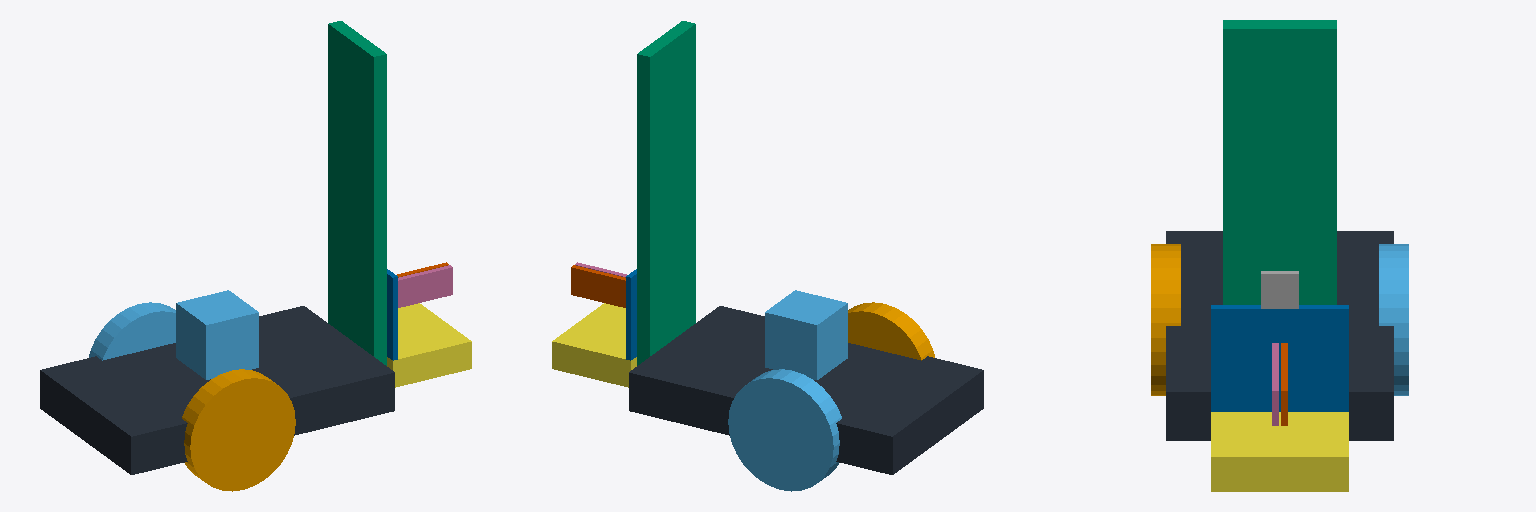
The robot description file, URDF, robot "lib_bot":
<?xml version="1.0" ?>

<robot name="lib_bot" xmlns:xacro="https://www.ros.org/wiki/xacro" >

    <gazebo>
        <plugin name="gazebo_ros_control" filename="libgazebo_ros_control.so">
            <robotNamespace>/lib_bot</robotNamespace>
        </plugin>
    </gazebo>
    
  <material name="black">
    <color rgba="0.0 0.0 0.0 1.0"/>
  </material>
  <material name="blue">
    <color rgba="0.203125 0.23828125 0.28515625 1.0"/>
  </material>
  <material name="green">
    <color rgba="0.0 0.8 0.0 1.0"/>
  </material>
  <material name="grey">
    <color rgba="0.2 0.2 0.2 1.0"/>
  </material>
  <material name="orange">
    <color rgba="1.0 0.423529411765 0.0392156862745 1.0"/>
  </material>
  <material name="brown">
    <color rgba="0.870588235294 0.811764705882 0.764705882353 1.0"/>
  </material>
  <material name="red">
    <color rgba="0.80078125 0.12890625 0.1328125 1.0"/>
  </material>
  <material name="white">
    <color rgba="1.0 1.0 1.0 1.0"/>
  </material>  
  
  <gazebo reference="base_link">
    <material>Gazebo/Orange</material>
  </gazebo>
  <gazebo reference="link_left_wheel">
    <material>Gazebo/Blue</material>
  </gazebo>
  <gazebo reference="link_right_wheel">
    <material>Gazebo/Blue</material>
  </gazebo>
    <gazebo reference="tower_link">
    <material>Gazebo/Yellow</material>
  </gazebo>
  <gazebo reference="push_link">
    <material>Gazebo/Orange</material>
  </gazebo>
  <gazebo reference="jaw_1_link">
    <material>Gazebo/Blue</material>
  </gazebo>
  <gazebo reference="jaw_2_link">
    <material>Gazebo/Blue</material>
  </gazebo>
  
    
  <link name="base_link">
    <!-- pose and inertial -->
    <pose>0 0 0.1 0 0 0</pose>
    
    <inertial>
      <mass value="5"/>
      <origin rpy="0 0 0" xyz="0 0 0.1"/>
      <inertia ixx="0.0395416666667" ixy="0" ixz="0" iyy="0.106208333333" iyz="0" izz="0.106208333333"/>
    </inertial>
    
    <collision name="collision_chassis">
      <geometry>
        <box size="0.5 0.3 0.07"/>
      </geometry>
    </collision>
    
    <visual>
      <origin rpy="0 0 0" xyz="0 0 0"/>
      <geometry>
        <box size="0.5 0.3 0.07"/>
      </geometry>
      <material name="blue"/>
    </visual>
    
    <!-- caster front -->
    <collision name="caster_front_collision">
      <origin rpy=" 0 0 0" xyz="0.35 0 -0.05"/>
      <geometry>
        <sphere radius="0.05"/>
      </geometry>
      <surface>
        <friction>
          <ode>
            <mu>0</mu>
            <mu2>0</mu2>
            <slip1>0.0</slip1>
            <slip2>0.0</slip2>
          </ode>
        </friction>
      </surface>
    </collision>
    <visual name="caster_front_visual">
      <origin rpy=" 0 0 0" xyz="0.2 0 -0.05"/>
      <geometry>
        <sphere radius="0.05"/>
      </geometry>
    </visual>
    </link>
  
  <!-- Create wheel right -->  
    
  <link name="link_right_wheel">    
    <!-- inertial>
      <mass value="0.2"/>
      <origin rpy="0 1.5707 1.5707" xyz="0 0 0"/>
      <inertia ixx="0.00052666666" ixy="0" ixz="0" iyy="0.00052666666" iyz="0" izz="0.001"/>
    </inertial -->
      <inertial>
            <origin xyz="0 0 0" rpy="0 0 0"/>
            <mass value="0.5" />
            <inertia ixx="0.0014541666666666665" ixy="0.0" ixz="0.0" iyy="0.0010416666666666667" iyz="0.0" izz="0.0022874999999999996"/>
        </inertial>
    
    <collision name="link_right_wheel_collision">
      <origin rpy="0 1.5707 1.5707" xyz="0 0 0" />
      <geometry>
        <cylinder length="0.04" radius="0.1"/>
      </geometry>
    </collision>
    
    <visual name="link_right_wheel_visual">
      <origin rpy="0 1.5707 1.5707" xyz="0 0 0"/>
      <geometry>
        <cylinder length="0.04" radius="0.1"/>
      </geometry>      
    </visual>
    
  </link>
  
    <link name="tower_link">
        <visual>
            <origin rpy="0 0 0" xyz="0 0 0.275"/>
            <geometry>
                <box size="0.025 0.15 0.60"/> 
            </geometry>
        </visual>
        <collision>
            <origin xyz="0 0 0.275" rpy="0 0 0"/>
            <geometry>
                 <box size="0.025 0.15 0.60"/> 
            </geometry>
        </collision>
        <inertial>
            <origin xyz="0 0 0" rpy="0 0 0"/>
            <mass value="0.5" />
            <inertia ixx="0.0014541666666666665" ixy="0.0" ixz="0.0" iyy="0.0010416666666666667" iyz="0.0" izz="0.0022874999999999996"/>
        </inertial>
    </link>
    
    <link name="elevtor_link">
        <visual>
            <origin rpy="0 0 0" xyz="0 0 0"/>
            <geometry>
                <box size="0.15 0.18 0.05"/> 
            </geometry>
        </visual>
        <collision>
            <origin xyz="0 0 0" rpy="0 0 0"/>
            <geometry>
                <box size="0.15 0.18 0.05"/> 
            </geometry>
        </collision>
        <inertial>
            <origin xyz="0 0 0" rpy="0 0 0"/>
            <mass value="0.5" />
            <inertia ixx="0.0014541666666666665" ixy="0.0" ixz="0.0" iyy="0.0010416666666666667" iyz="0.0" izz="0.0022874999999999996"/>
        </inertial>
         <!--inertial>
            <origin xyz="0 0 0.275" rpy="0 0 0"/>
            <mass value="2.5" />
            <inertia ixx="0.07968750000000001" ixy="0.0" ixz="0.0" iyy="0.07513020833333334" iyz="0.0" izz="0.0048177083333333336"/>
        </inertial-->
    </link>
    
    <link name="push_link">
        <visual>
            <origin rpy="0 0 0" xyz="0 0 0"/>
            <geometry>
                <box size="0.01 0.18 0.15"/> 
            </geometry>
        </visual>
        <collision>
            <origin xyz="0 0 0" rpy="0 0 0"/>
            <geometry>
                 <box size="0.01 0.18 0.15"/> 
            </geometry>
        </collision>
        <inertial>
            <origin xyz="0 0 0" rpy="0 0 0"/>
            <mass value="0.05" />
            <inertia ixx="0.00022874999999999998" ixy="0.0" ixz="0.0" iyy="9.416666666666666e-05" iyz="0.0" izz="0.00013541666666666666"/>
        </inertial>
    </link>
    
    <link name="jaw_1_link">
        <visual>
            <origin rpy="0 0 0" xyz="0 0 0"/>
            <geometry>
                <box size="0.15 0.01 0.05"/> 
            </geometry>
        </visual>
        <collision>
            <origin xyz="0 0 0" rpy="0 0 0"/>
            <geometry>
                 <box size="0.15 0.01 0.05"/> 
            </geometry>
        </collision>
        <inertial>
            <origin xyz="0 0 0" rpy="0 0 0"/>
            <mass value="0.05" />
            <inertia ixx="0.00022874999999999998" ixy="0.0" ixz="0.0" iyy="9.416666666666666e-05" iyz="0.0" izz="0.00013541666666666666"/>
        </inertial>
    </link>
    
    <link name="jaw_2_link">
        <visual>
            <origin rpy="0 0 0" xyz="0 0 0"/>
            <geometry>
                <box size="0.15 0.01 0.05"/> 
            </geometry>
        </visual>
        <collision>
            <origin xyz="0 0 0" rpy="0 0 0"/>
            <geometry>
                <box size="0.15 0.01 0.05"/> 
            </geometry>
        </collision>
        <inertial>
            <origin xyz="0 0 0" rpy="0 0 0"/>
            <mass value="0.05" />
            <inertia ixx="0.00022874999999999998" ixy="0.0" ixz="0.0" iyy="9.416666666666666e-05" iyz="0.0" izz="0.00013541666666666666"/>
        </inertial>
    </link>
    
    <link name="camera">


    <visual>
      <origin xyz="0 0 0" rpy="0 0 0"/>
      <geometry>
        <box size="0.01 0.05 0.05"/>
      </geometry>
    </visual>
    <collision>
      <origin xyz="0 0 0" rpy="0 0 0"/>
      <geometry>
        <box size="0.05 0.05 0.05"/>
      </geometry>
    </collision>
    <inertial>
            <origin xyz="0 0 0" rpy="0 0 0" />
            <mass value="0.05" />
            <inertia ixx="4.166666666666667e-05" ixy="0.0" ixz="0.0" iyy="2.166666666666667e-05" iyz="0.0" izz="2.166666666666667e-05" />
    </inertial>


  </link>
    
  <!--   Joint for right wheel  -->
  <joint name="joint_right_wheel" type="continuous">
    <origin rpy="0 0 0" xyz="-0.05 0.15 0"/>
    <child link="link_right_wheel" />
    <parent link="base_link"/>
    <axis rpy="0 0 0" xyz="0 1 0"/>
    <limit effort="10000" velocity="1000"/>
    <joint_properties damping="1.0" friction="1.0" />
  </joint>  
    
  <!-- Left Wheel link -->
    
  <link name="link_left_wheel">    
    <!-- inertial>
      <mass value="0.2"/>
      <origin rpy="0 1.5707 1.5707" xyz="0 0 0"/>
      <inertia ixx="0.00052666666" ixy="0" ixz="0" iyy="0.00052666666" iyz="0" izz="0.001"/>
    </inertial -->
     <inertial>
            <origin xyz="0 0 0" rpy="0 0 0"/>
            <mass value="0.5" />
            <inertia ixx="0.0014541666666666665" ixy="0.0" ixz="0.0" iyy="0.0010416666666666667" iyz="0.0" izz="0.0022874999999999996"/>
        </inertial>
    
    <collision name="link_left_wheel_collision">
      <origin rpy="0 1.5707 1.5707" xyz="0 0 0" />
      <geometry>
        <cylinder length="0.04" radius="0.1"/>
      </geometry>
    </collision>
    
    <visual name="link_left_wheel_visual">
      <origin rpy="0 1.5707 1.5707" xyz="0 0 0"/>
      <geometry>
        <cylinder length="0.04" radius="0.1"/>
      </geometry>      
    </visual>
    
  </link>
  
  <link name="hokuyo">
    <collision>
      <origin xyz="0 0 0" rpy="0 0 0"/>
      <geometry>
    <box size="0.1 0.1 0.1"/>
      </geometry>
    </collision>

    <visual>
      <origin xyz="0 0 0" rpy="0 0 0"/>
      <geometry>
        <box size="0.1 0.1 0.1"/>
      </geometry>
    </visual>

    <inertial>
      <mass value="1e-5" />
      <origin xyz="0 0 0" rpy="0 0 0"/>
      <inertia ixx="1e-6" ixy="0" ixz="0" iyy="1e-6" iyz="0" izz="1e-6" />
    </inertial>
  </link>

    
  <!--   Joint for right wheel  -->
  <joint name="joint_left_wheel" type="continuous">
    <origin rpy="0 0 0" xyz="-0.05 -0.15 0"/>
    <child link="link_left_wheel" />
    <parent link="base_link"/>
    <axis rpy="0 0 0" xyz="0 1 0"/>
    <limit effort="10000" velocity="1000"/>
    <joint_properties damping="1.0" friction="1.0" />
  </joint>    
  
  <joint name="base_link_tower_link_joint" type="fixed">
    <origin xyz="0.265 0 0" rpy="0 0 0"/>
    <parent link="base_link"/>
    <child link="tower_link"/>
 </joint>
    

  <joint name="tower_link_elevtor_link_joint" type="prismatic">
    <axis xyz="0 0 1"/>
    <parent link="tower_link"/>
    <child link="elevtor_link"/>
    <limit effort="1000.0" lower="0" upper="0.55" velocity="0.2"/>
    <origin rpy="0 0 0" xyz="0.090 0 0"/>
  </joint>
  
  <joint name="elevtor_link_push_link_joint" type="prismatic">
    <axis xyz="1 0 0"/>
    <parent link="elevtor_link"/>
    <child link="push_link"/>
    <limit effort="1000.0" lower="0" upper="0.14" velocity="0.2"/>
    <origin rpy="0 0 0" xyz="-0.070 0 0.1"/>
  </joint>
  
  <joint name="push_link_jaw_1_joint" type="prismatic">
    <axis xyz="0 1 0"/>
    <parent link="push_link"/>
    <child link="jaw_1_link"/>
    <limit effort="1000.0" lower="0" upper="0.075" velocity="0.2"/>
    <origin rpy="0 0 0" xyz="0.080 0.006 0"/>
  </joint>
  
  <joint name="push_link_jaw_2_joint" type="prismatic">
    <axis xyz="0 1 0"/>
    <parent link="push_link"/>
    <child link="jaw_2_link"/>
    <limit effort="1000.0" lower="-0.075" upper="0" velocity="0.2"/>
    <origin rpy="0 0 0" xyz="0.080 -0.006 0"/>
  </joint>
  
  <joint name="camera_joint" type="fixed">
        <axis xyz="0 1 0" />
        <origin xyz="0 0 0.1" rpy="0 0 0"/>
        <parent link="push_link"/>
        <child link="camera"/>
  </joint>
  
  <joint name="hokuyo_joint" type="fixed">
    <axis xyz="0 1 0" />
    <origin xyz="0 0 .1" rpy="0 0 3.14"/>
    <parent link="base_link"/>
    <child link="hokuyo"/>
  </joint>
  
   <transmission name="tran1">
    <type>transmission_interface/SimpleTransmission</type>
    <joint name="tower_link_elevtor_link_joint">
      <!--hardwareInterface>EffortJointInterface</hardwareInterface-->
      <hardwareInterface>hardware_interface/PositionJointInterface</hardwareInterface>
    </joint>
    <actuator name="motor1">
      <!--hardwareInterface>EffortJointInterface</hardwareInterface-->
      <hardwareInterface>hardware_interface/PositionJointInterface</hardwareInterface>
      <mechanicalReduction>1</mechanicalReduction>
    </actuator>
  </transmission>
  
  <transmission name="tran2">
    <type>transmission_interface/SimpleTransmission</type>
    <joint name="elevtor_link_push_link_joint">
      <!--hardwareInterface>EffortJointInterface</hardwareInterface-->
      <hardwareInterface>hardware_interface/PositionJointInterface</hardwareInterface>
    </joint>
    <actuator name="motor2">
      <!--hardwareInterface>EffortJointInterface</hardwareInterface-->
      <hardwareInterface>hardware_interface/PositionJointInterface</hardwareInterface>
      <mechanicalReduction>1</mechanicalReduction>
    </actuator>
  </transmission>
  
  <transmission name="tran3">
    <type>transmission_interface/SimpleTransmission</type>
    <joint name="push_link_jaw_1_joint">
      <!--hardwareInterface>EffortJointInterface</hardwareInterface-->
      <hardwareInterface>hardware_interface/PositionJointInterface</hardwareInterface>
    </joint>
    <actuator name="motor3">
      <!--hardwareInterface>EffortJointInterface</hardwareInterface-->
      <hardwareInterface>hardware_interface/PositionJointInterface</hardwareInterface>
      <mechanicalReduction>1</mechanicalReduction>
    </actuator>
  </transmission>
  
  <transmission name="tran4">
    <type>transmission_interface/SimpleTransmission</type>
    <joint name="push_link_jaw_2_joint">
      <!--hardwareInterface>EffortJointInterface</hardwareInterface-->
      <hardwareInterface>hardware_interface/PositionJointInterface</hardwareInterface>
    </joint>
    <actuator name="motor4">
      <!--hardwareInterface>EffortJointInterface</hardwareInterface-->
      <hardwareInterface>hardware_interface/PositionJointInterface</hardwareInterface>
      <mechanicalReduction>1</mechanicalReduction>
    </actuator>
  </transmission>
  
 <gazebo reference="camera">
    <sensor type="camera" name="camera1">
      <update_rate>30.0</update_rate>
      <camera name="head">
        <horizontal_fov>1.3962634</horizontal_fov>
        <image>
          <width>800</width>
          <height>800</height>
          <format>R8G8B8</format>
        </image>
        <clip>
          <near>0.02</near>
          <far>300</far>
        </clip>
      </camera>
      <plugin name="camera_controller" filename="libgazebo_ros_camera.so">
        <alwaysOn>true</alwaysOn>
        <updateRate>0.0</updateRate>
        <cameraName>lib_bot/camera</cameraName>
        <imageTopicName>image_raw</imageTopicName>
        <cameraInfoTopicName>camera_info</cameraInfoTopicName>
        <frameName>camera</frameName>
        <hackBaseline>0.07</hackBaseline>
        <distortionK1>0.0</distortionK1>
        <distortionK2>0.0</distortionK2>
        <distortionK3>0.0</distortionK3>
        <distortionT1>0.0</distortionT1>
        <distortionT2>0.0</distortionT2>
      </plugin>
    </sensor>
  </gazebo>
  
  <!-- gazebo>
    <plugin filename="libgazebo_ros_diff_drive.so" name="differential_drive_controller">
      <alwaysOn>true</alwaysOn>
      <updateRate>20</updateRate>
      <leftJoint>joint_left_wheel</leftJoint>
      <rightJoint>joint_right_wheel</rightJoint>
      <wheelSeparation>0.4</wheelSeparation>
      <wheelDiameter>0.2</wheelDiameter>
      <torque>0.1</torque>
      <commandTopic>cmd_vel</commandTopic>
      <odometryTopic>odom</odometryTopic>
      <odometryFrame>odom</odometryFrame>
      <robotBaseFrame>base_link</robotBaseFrame>
    </plugin>
  </gazebo -->
  <gazebo>
    <plugin name="omni_steering" filename="libgazebo_ros_planar_move.so">
      <commandTopic>cmd_vel</commandTopic>
      <odometryTopic>odom</odometryTopic>
      <odometryFrame>odom</odometryFrame>
      <odometryRate>100.0</odometryRate>
      <robotBaseFrame>base_link</robotBaseFrame>
      <publishTF>True</publishTF>
      <publishWheelJointState>true</publishWheelJointState>
    </plugin>
  </gazebo>
  
  
  <gazebo reference="hokuyo">
    <sensor type="gpu_ray" name="head_hokuyo_sensor">
      <pose>0 0 0 0 0 0</pose>
      <visualize>true</visualize>
      <update_rate>40</update_rate>
      <ray>
        <scan>
          <horizontal>
            <samples>720</samples>
            <resolution>1</resolution>
            <min_angle>-2.57</min_angle>
            <max_angle>2.57</max_angle>
          </horizontal>
        </scan>
        <range>
          <min>0.10</min>
          <max>30.0</max>
          <resolution>0.01</resolution>
        </range>
        <noise>
          <type>gaussian</type>
          <!-- Noise parameters based on published spec for Hokuyo laser
               achieving "+-30mm" accuracy at range < 10m.  A mean of 0.0m and
               stddev of 0.01m will put 99.7% of samples within 0.03m of the true
               reading. -->
          <mean>0.0</mean>
          <stddev>0.01</stddev>
        </noise>
      </ray>
      <plugin name="gazebo_ros_head_hokuyo_controller" filename="libgazebo_ros_gpu_laser.so">
        <topicName>/mybot/laser/scan</topicName>
        <frameName>hokuyo</frameName>
      </plugin>
    </sensor>
  </gazebo>
</robot>

--- Facts derived from the render (not from the file) ---
Views: 3 orthographic renders of the robot side by side, from view 1: azimuth 30°, elevation 25°; view 2: azimuth 150°, elevation 25°; view 3: azimuth 270°, elevation 25°.
Model lib_bot with 10 links and 9 joints (2 continuous, 4 prismatic, 3 fixed), rooted at base_link, posed every joint at zero.
Links seen in each view (by area): view 1: base_link, tower_link, link_left_wheel, hokuyo, elevtor_link, link_right_wheel, jaw_2_link, push_link; view 2: base_link, tower_link, link_right_wheel, hokuyo, elevtor_link, link_left_wheel, jaw_1_link, push_link; view 3: tower_link, base_link, push_link, elevtor_link, link_right_wheel, link_left_wheel, camera, jaw_1_link, jaw_2_link.
Link boxes in pixels (box(x1,y1,x2,y2)): base_link: box(40, 306, 394, 474); tower_link: box(328, 21, 386, 365); link_left_wheel: box(182, 369, 295, 491); hokuyo: box(176, 290, 258, 379); elevtor_link: box(387, 303, 471, 387); link_right_wheel: box(89, 302, 175, 360); jaw_2_link: box(398, 265, 452, 307); push_link: box(387, 269, 397, 360); base_link: box(629, 306, 983, 474); tower_link: box(637, 21, 695, 365); link_right_wheel: box(728, 369, 841, 491); hokuyo: box(765, 290, 847, 379); elevtor_link: box(552, 303, 636, 387); link_left_wheel: box(848, 302, 934, 360); jaw_1_link: box(571, 265, 625, 307); push_link: box(626, 269, 636, 360); tower_link: box(1223, 20, 1336, 304); base_link: box(1166, 231, 1393, 440); push_link: box(1211, 305, 1348, 411); elevtor_link: box(1211, 412, 1348, 491); link_right_wheel: box(1379, 244, 1408, 395); link_left_wheel: box(1151, 244, 1180, 395); camera: box(1261, 271, 1298, 308); jaw_1_link: box(1281, 343, 1287, 425); jaw_2_link: box(1272, 343, 1278, 425).
Bounding box of the posed robot: 0.69 × 0.34 × 0.675 m (x, y, z).
Geometry: primitives only (box / cylinder / sphere), no mesh files.
